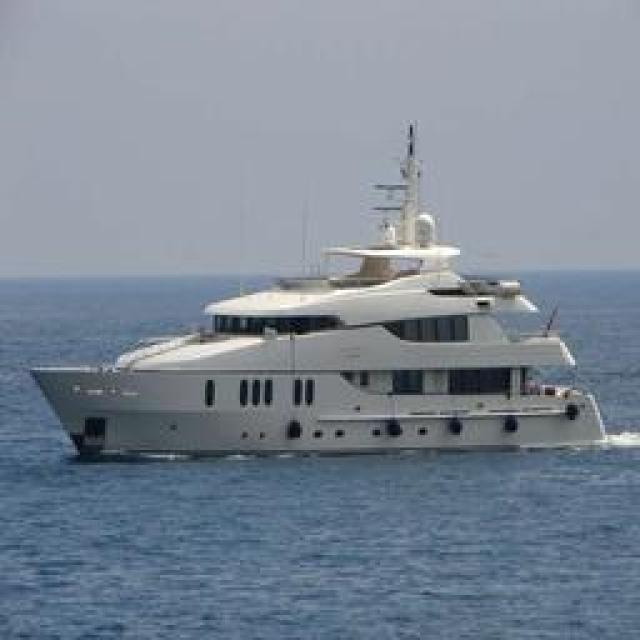CIV_Ship: (38, 135, 598, 455)
